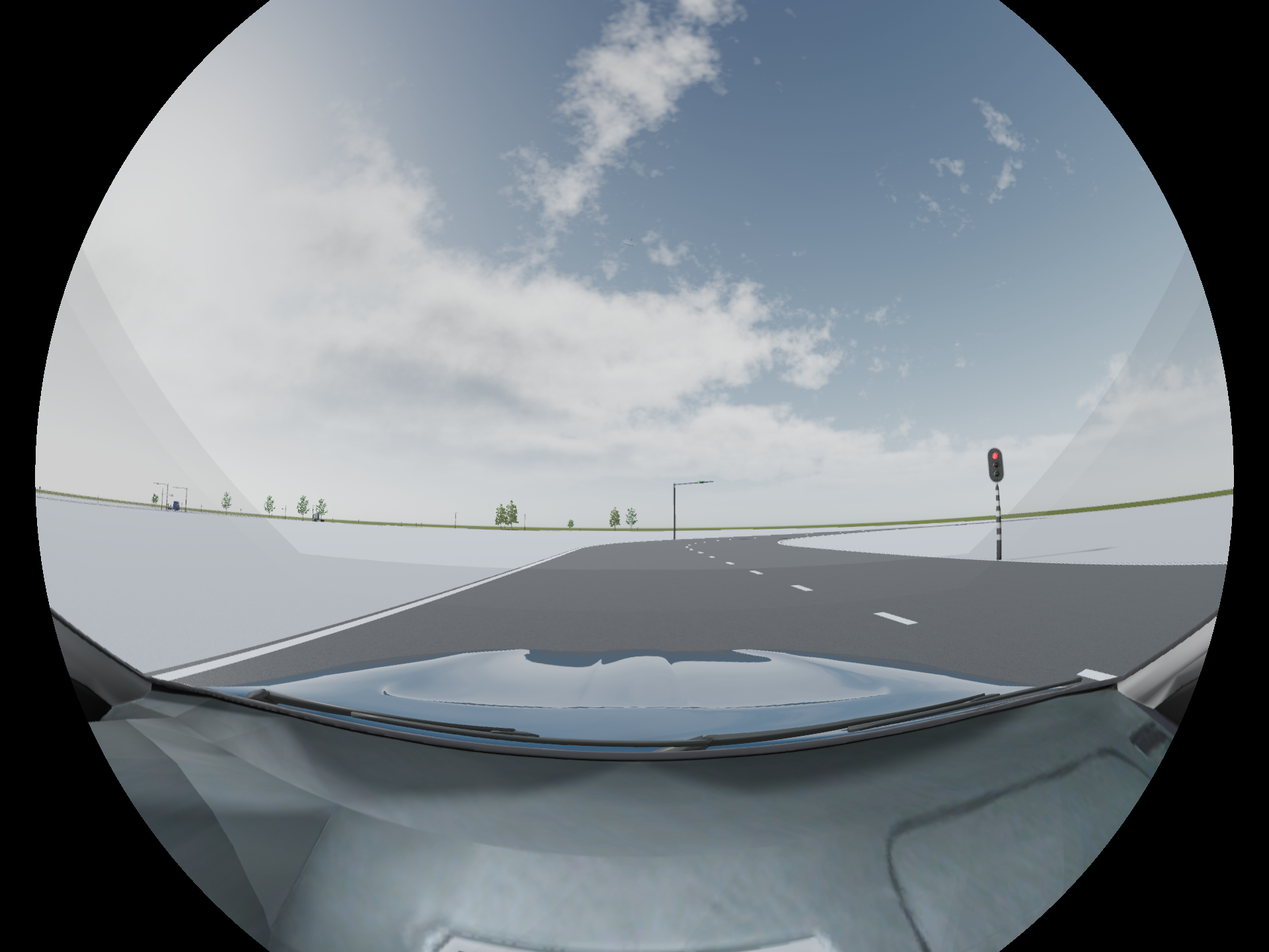Red Light: (989, 448, 1005, 483)
